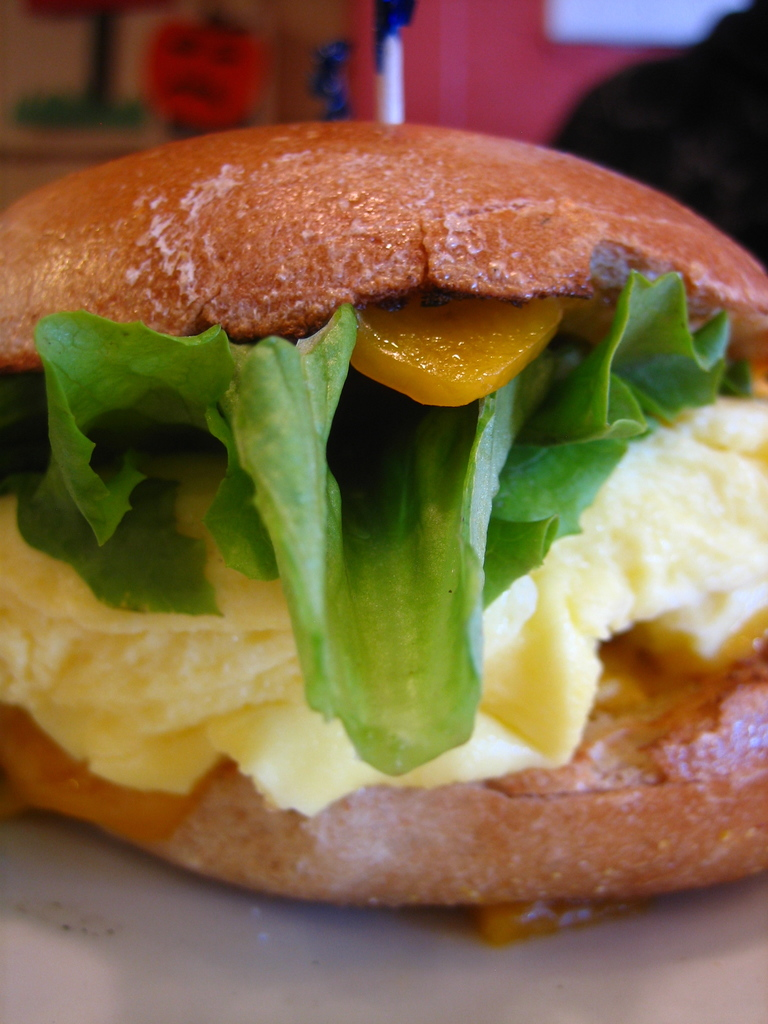Hamburger: (0, 117, 767, 942)
